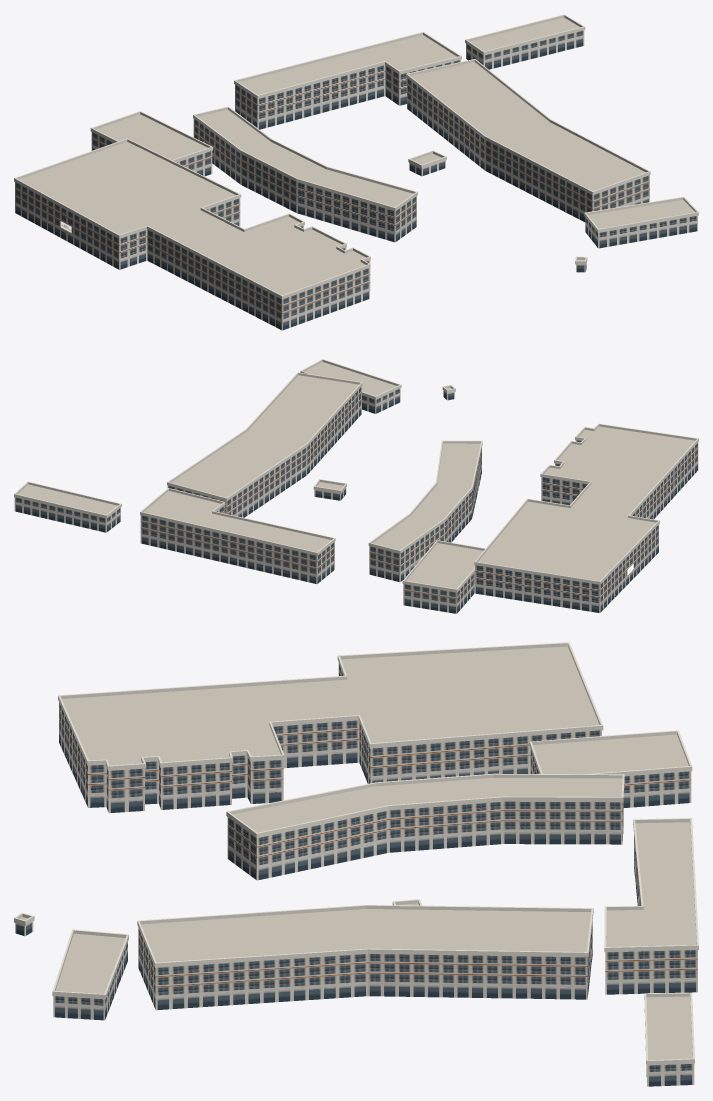
Rendered from secrets.glb.
3 views of the same model, one above another, from view 1: azimuth 30°, elevation 25°; view 2: azimuth 150°, elevation 25°; view 3: azimuth 270°, elevation 25° (orthographic). The views are drawn at different scales.
Visible parts, largest first — view 1: secrets_lod0; view 2: secrets_lod0; view 3: secrets_lod0.
Boxes of the visible parts, x1,y1,x2,y2 form: secrets_lod0: (14, 14, 698, 330); secrets_lod0: (14, 359, 698, 613); secrets_lod0: (14, 642, 698, 1086).
Size of what is drawn, in the model's own units: 266 by 14.7 by 194.
Materials: 5 (3 with a texture image).
